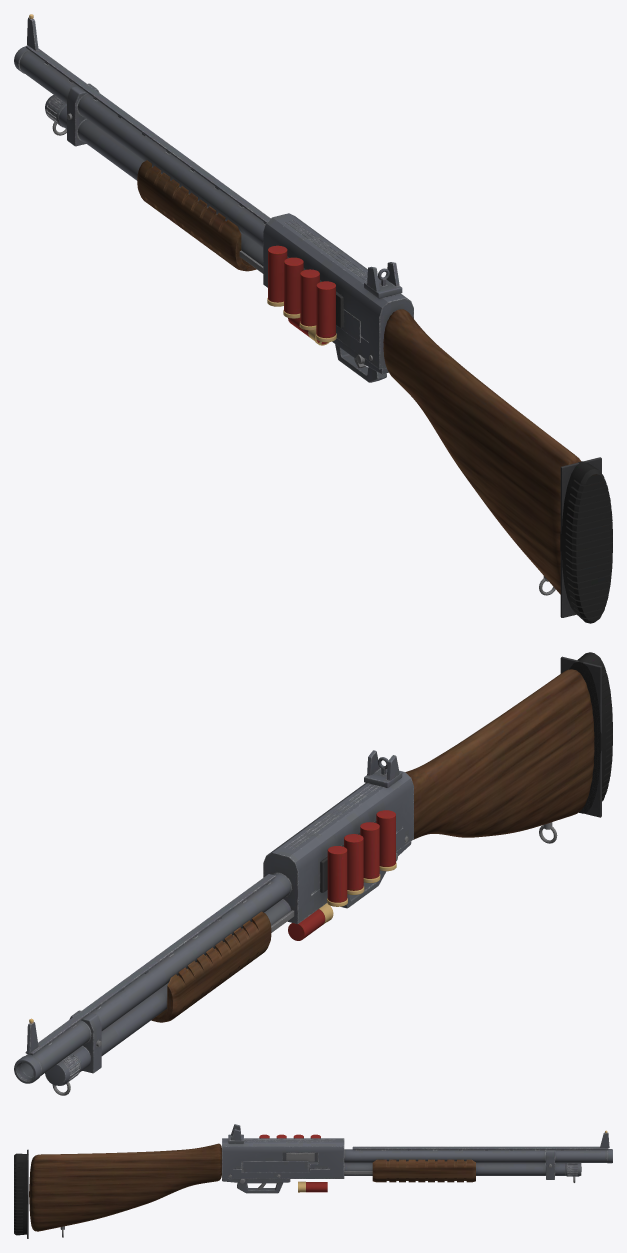
Rendered from jingzhe.glb.
The picture shows the model from 3 angles, top to bottom: view 1: azimuth 30°, elevation 25°; view 2: azimuth 150°, elevation 25°; view 3: azimuth 270°, elevation 25°; orthographic projection. The views are drawn at different scales.
Visible parts, largest first — view 1: body, pump; view 2: body, pump, shell; view 3: body, pump, shell, bolt.
Boxes of the visible parts, x1,y1,x2,y2 form: body: (14, 14, 612, 623); pump: (137, 160, 263, 273); body: (14, 652, 612, 1095); pump: (151, 910, 294, 1022); shell: (288, 903, 333, 940); body: (14, 1124, 612, 1238); pump: (344, 1159, 475, 1182); shell: (298, 1181, 327, 1192); bolt: (286, 1153, 314, 1161).
Bounding box in the file's own units: 0.0638 × 0.2143 × 1.05.
1 material, 1 textured.
